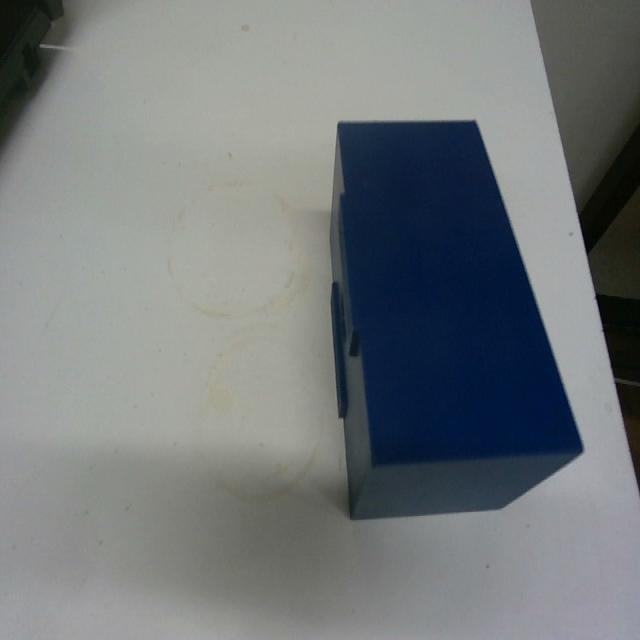Blue Cuboid: (326, 115, 584, 521)
